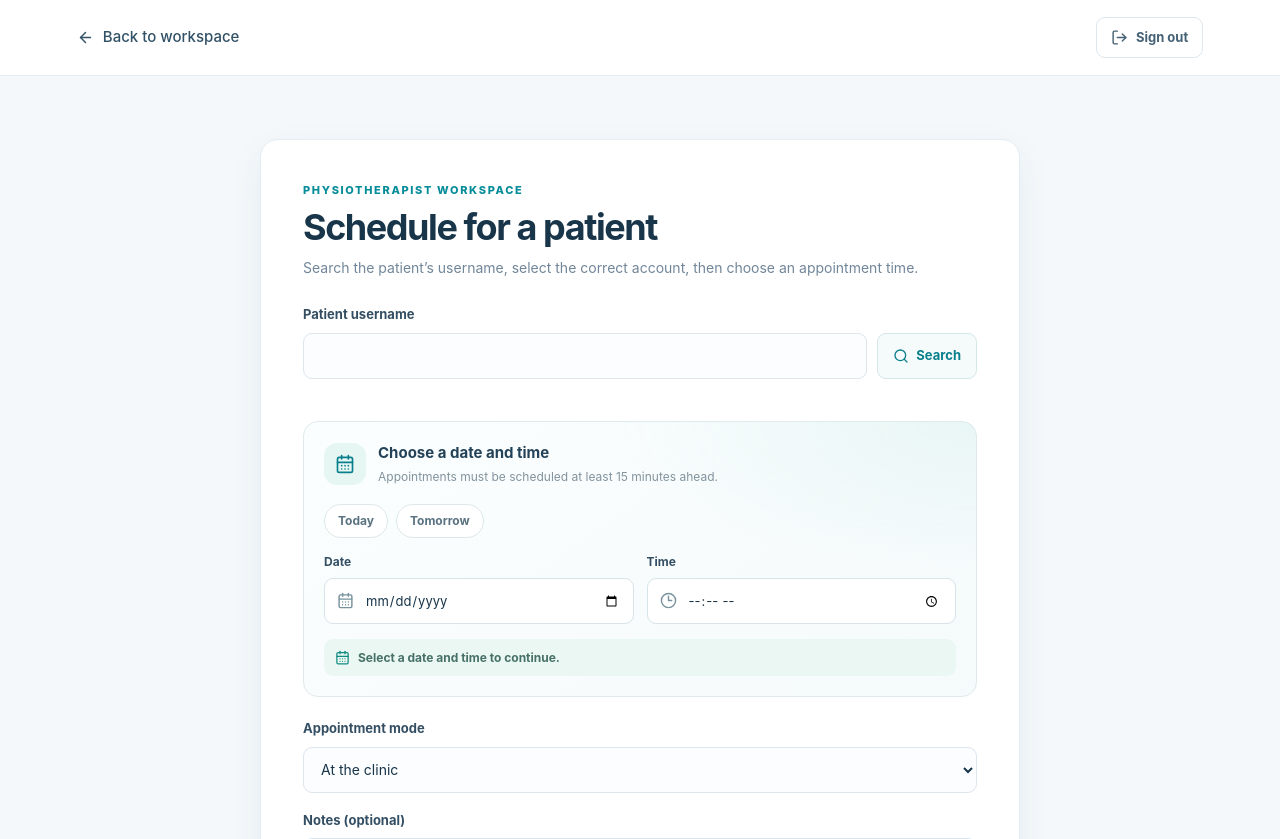
it: appointment page integrations › searches and selects a patient username before staff booking
The image size is (1280, 839).
In the field labelled "Patient username": (585,356) [303,333,867,379], type "patient"
Click the button "Search": (927,356) [877,333,977,379]
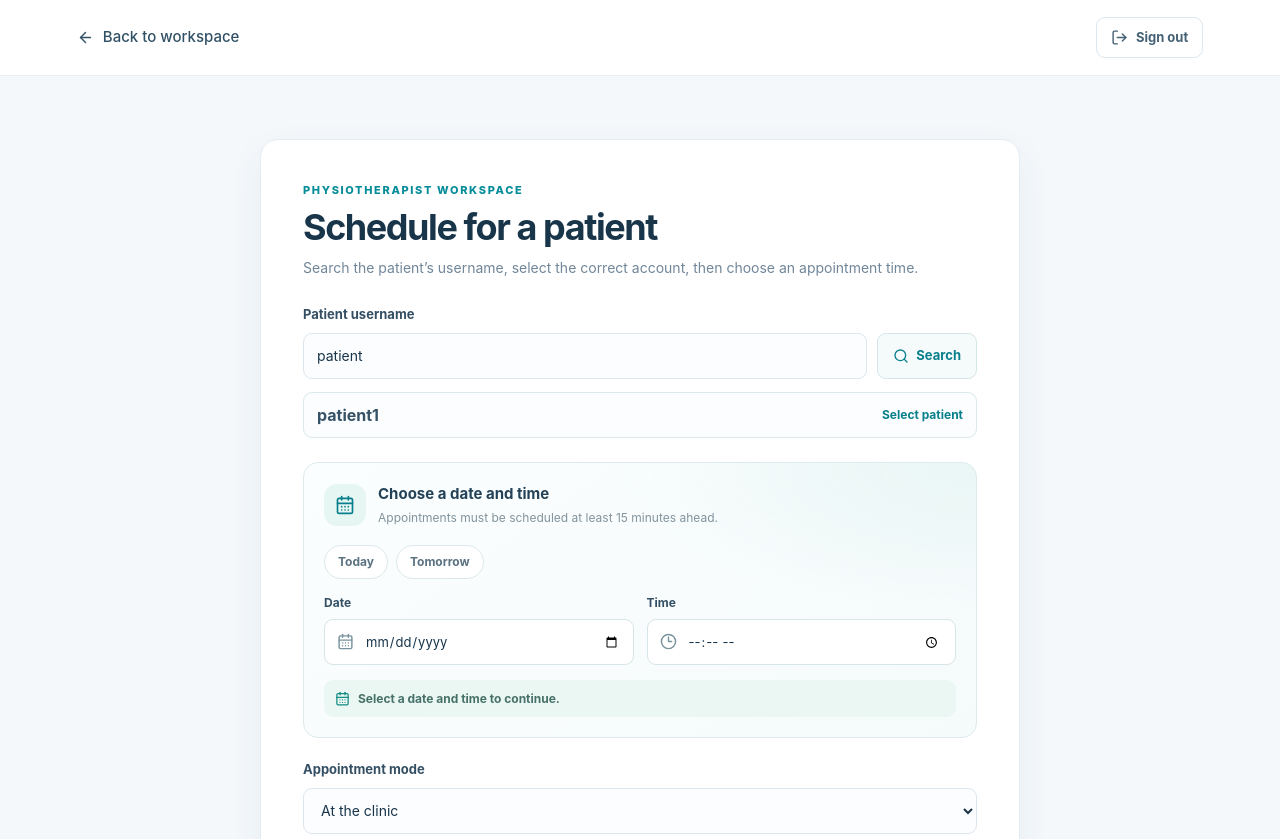
Click the button "patient1 Select patient": (348,415) [303,392,977,438]
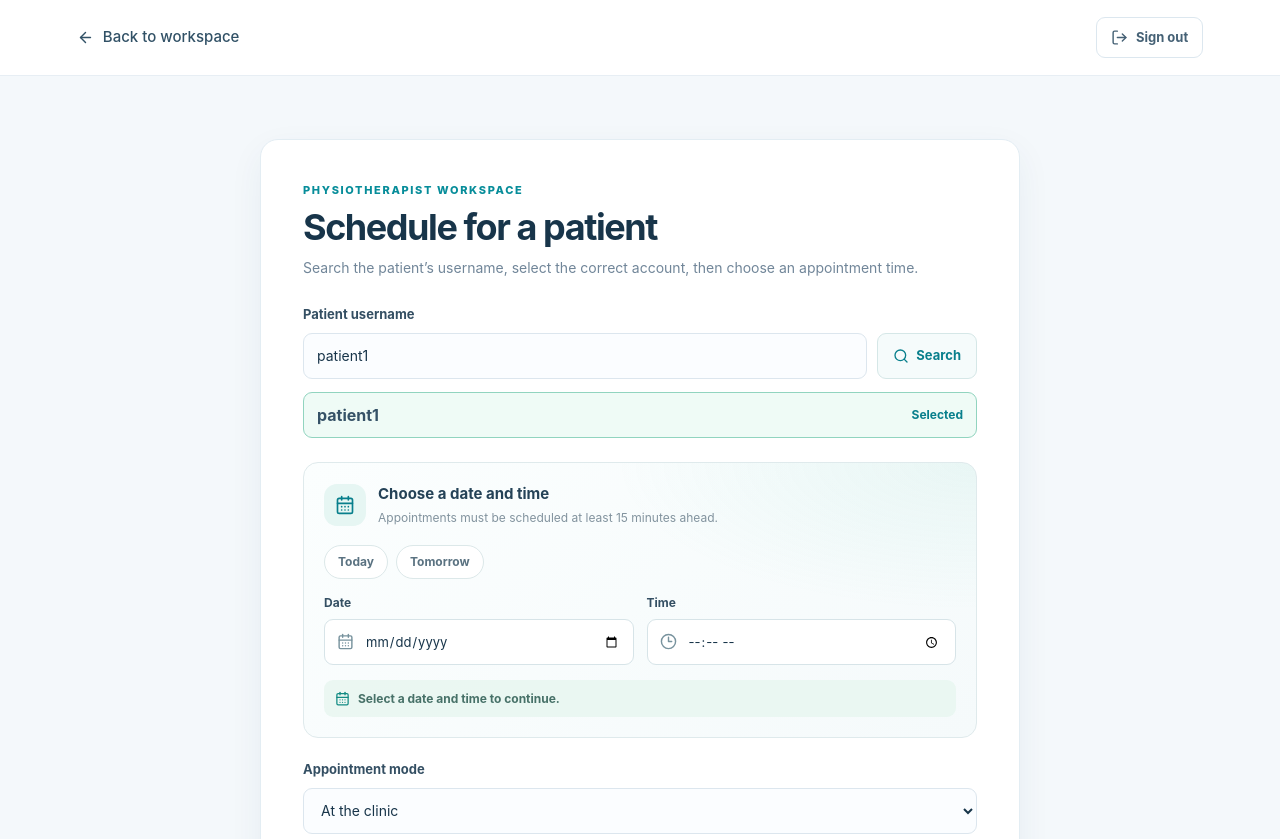
In the date field labelled "Date": (479,642) [324,620,634,666], type "2031-05-04"
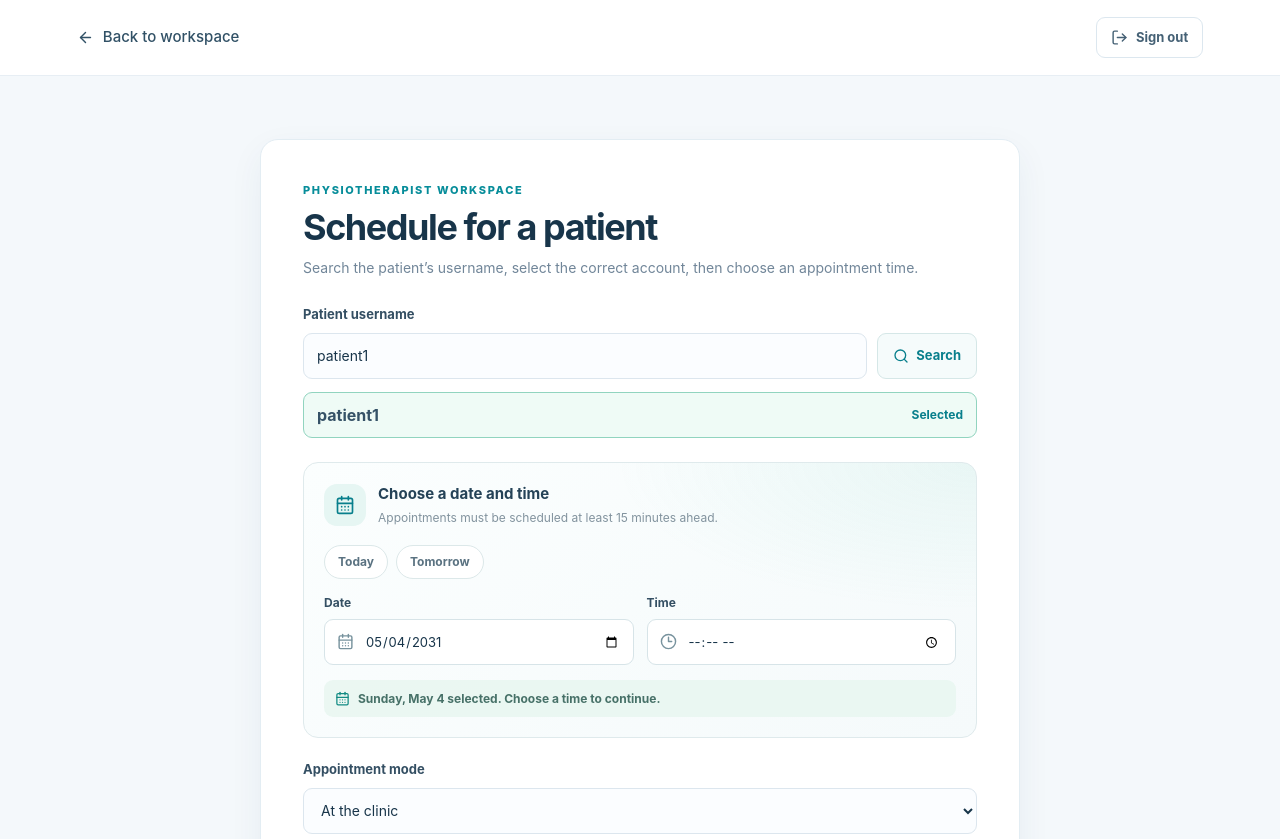
In the time field labelled "Time": (801,642) [646,620,956,666], type "10:30"
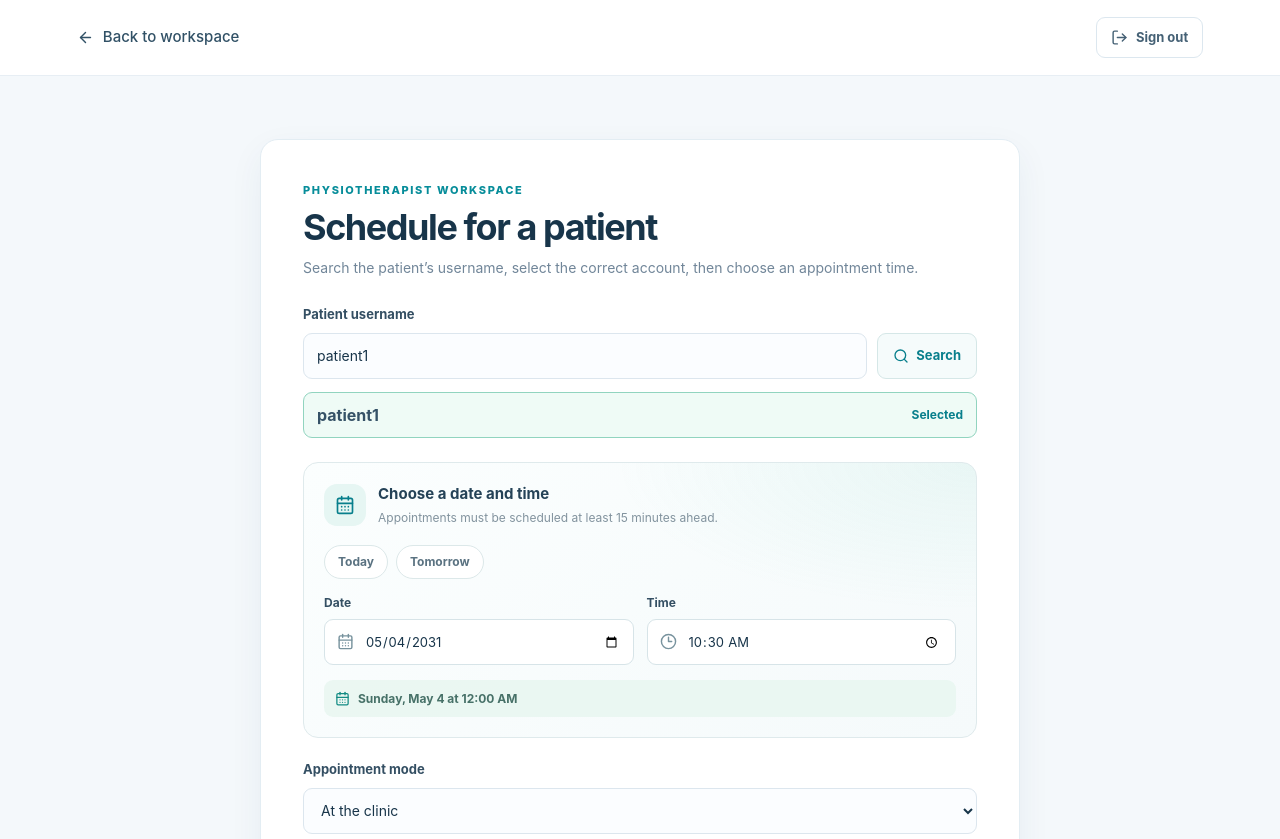
Select "Home visit" in the dropdown labelled "Appointment mode": (640,811) [303,788,977,834]
(page scrolled)
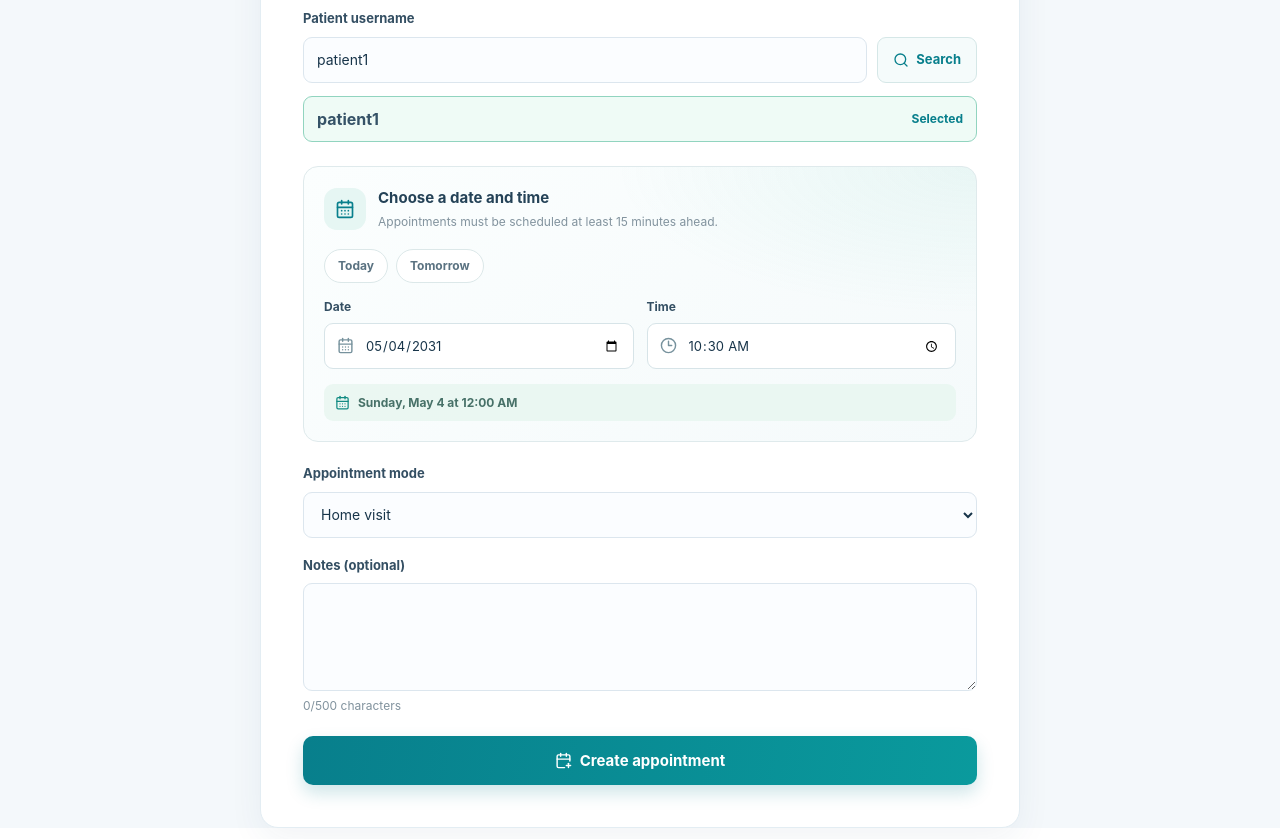
Submit the form named "Create appointment", box [303,166,977,786]
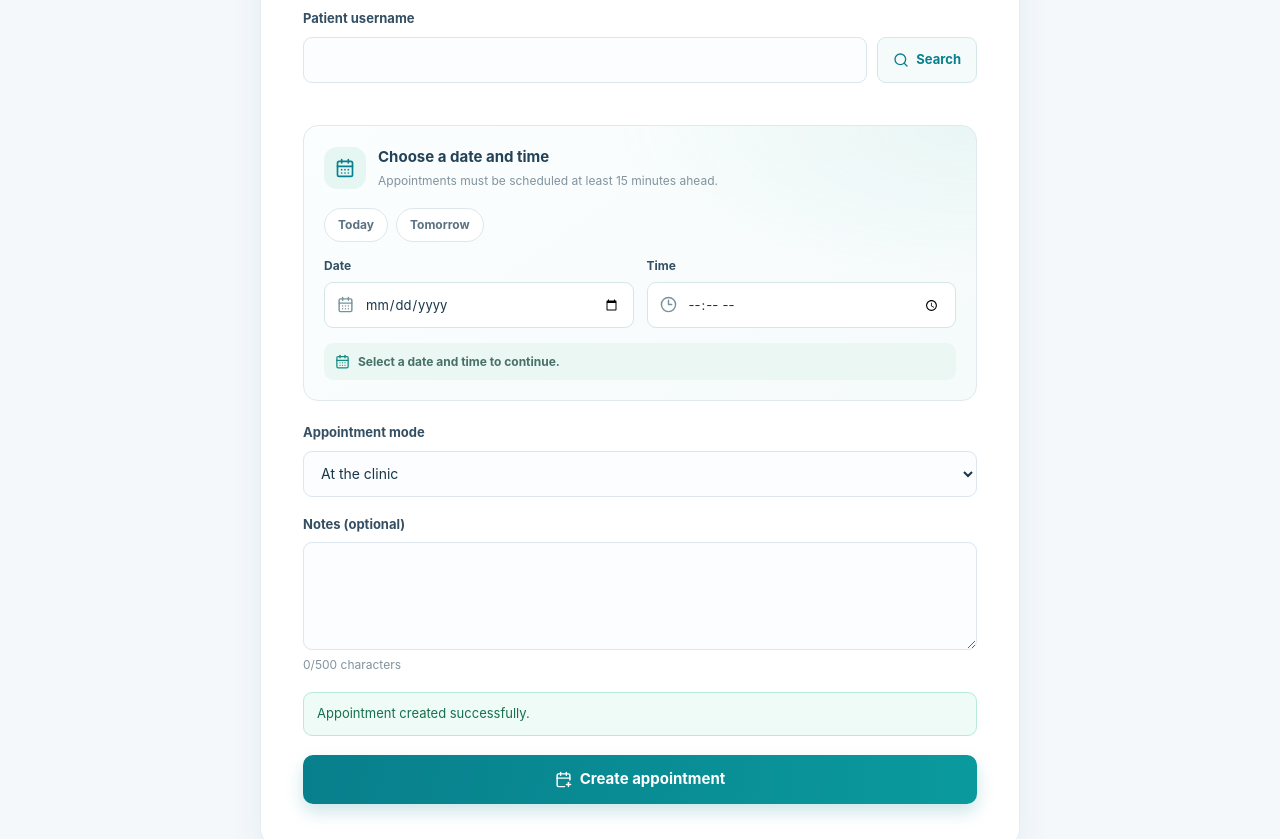
Check: the text "Appointment created successfully." is shown, box [303,692,977,736]
